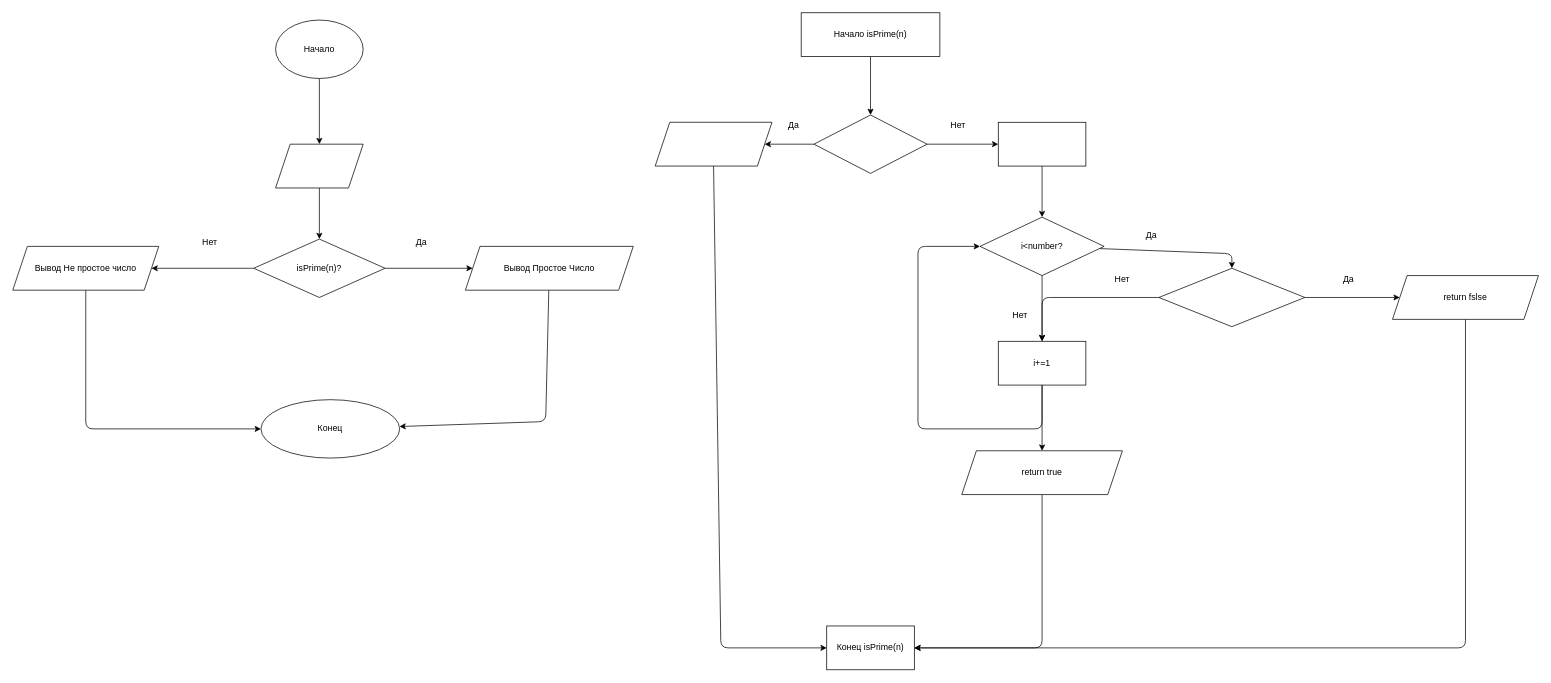
Image size: 1551x683. Some labels were removed from this diagram. The shapes that lost their labels are listed below. From the top down, each one's centre as x and y in pixels, then its label:
the point at 713,144: return false
the point at 870,143: number<2?
the point at 1042,144: i=2
the point at 319,165: Ввод n
the point at 1231,297: number%i==0?
